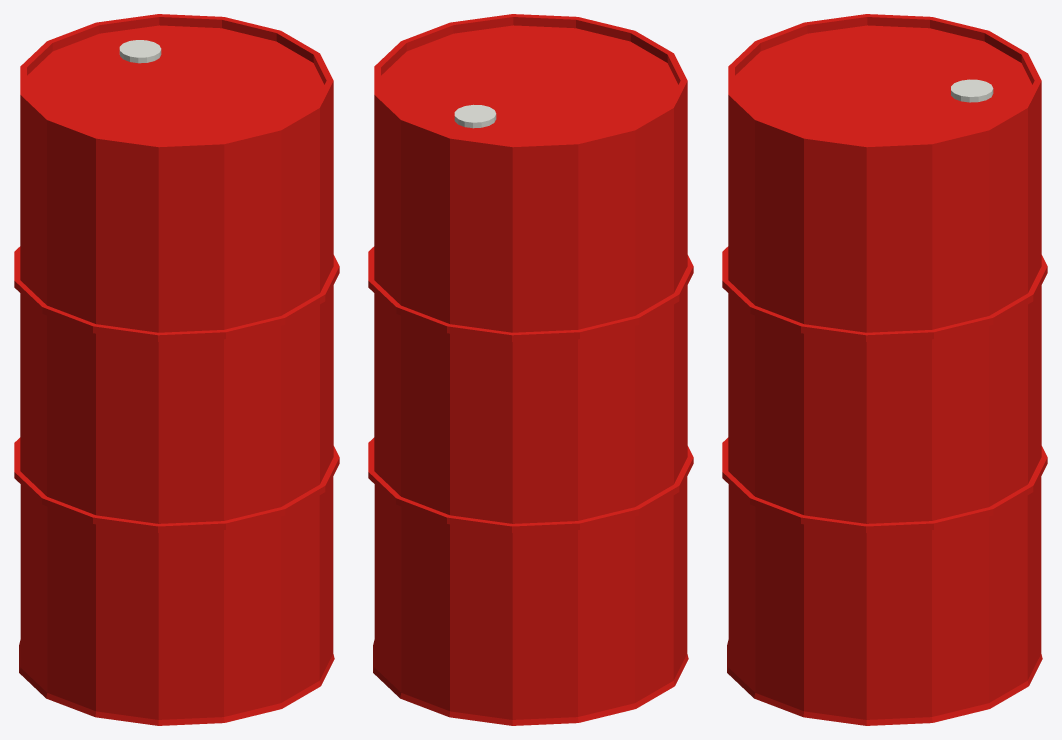
Rendered from GasTankbarrel.fbx.
The picture shows the model from 3 angles, left to right: view 1: azimuth 30°, elevation 25°; view 2: azimuth 150°, elevation 25°; view 3: azimuth 270°, elevation 25°; orthographic projection.
Visible parts, largest first — view 1: Cylinder, Cylinder.001; view 2: Cylinder, Cylinder.001; view 3: Cylinder, Cylinder.001.
Part boxes in pixels (left/top/right/bottom): Cylinder: left=14, top=14, right=339, bottom=725; Cylinder.001: left=119, top=40, right=161, bottom=63; Cylinder: left=368, top=14, right=693, bottom=725; Cylinder.001: left=454, top=104, right=496, bottom=128; Cylinder: left=722, top=14, right=1047, bottom=725; Cylinder.001: left=951, top=79, right=993, bottom=102.
Bounding box in the file's own units: 205 × 400 × 204.
